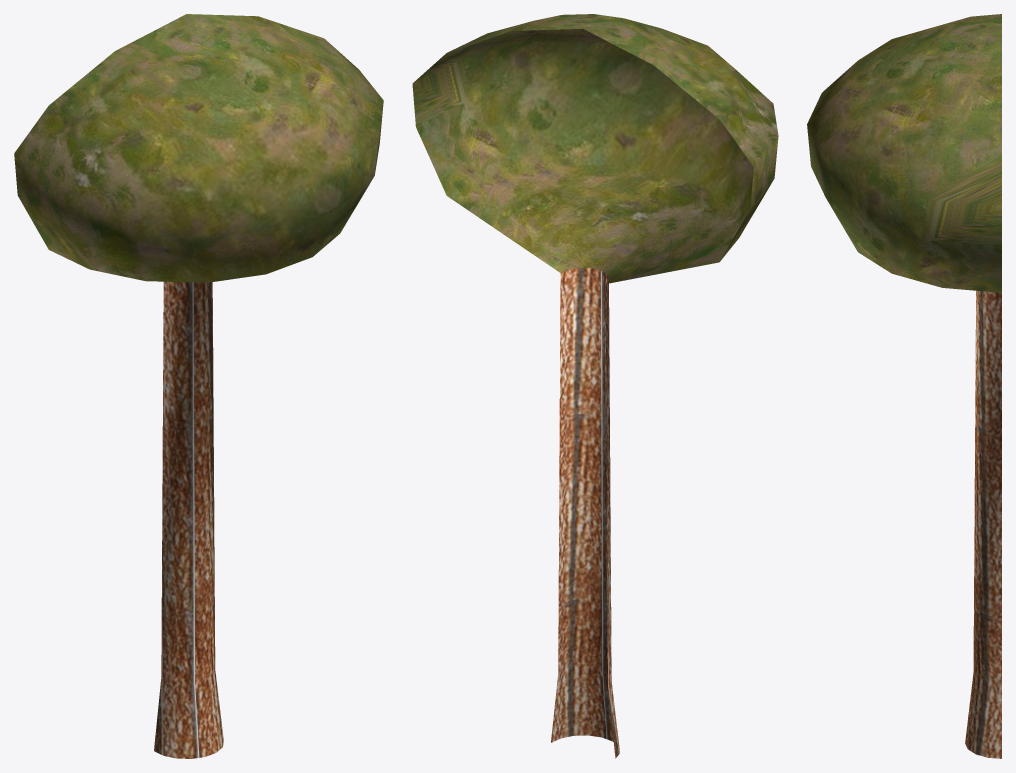
File: Albero 1.fbx
The picture shows the model from 3 angles, left to right: view 1: azimuth 30°, elevation 25°; view 2: azimuth 150°, elevation 25°; view 3: azimuth 270°, elevation 25°; orthographic projection. The views are drawn at different scales.
Visible parts, largest first — view 1: Cylinder; view 2: Cylinder; view 3: Cylinder.
Part boxes in pixels (x1,y1,x2,y2): Cylinder: (14,14,383,758); Cylinder: (412,14,778,758); Cylinder: (807,14,1001,758).
Bounding box in the file's own units: 151 × 306 × 75.61.
